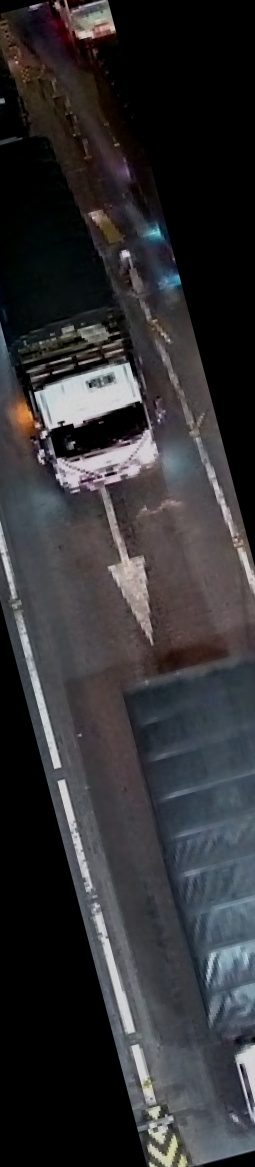truck: (0, 4, 178, 515), (104, 639, 255, 1148)
